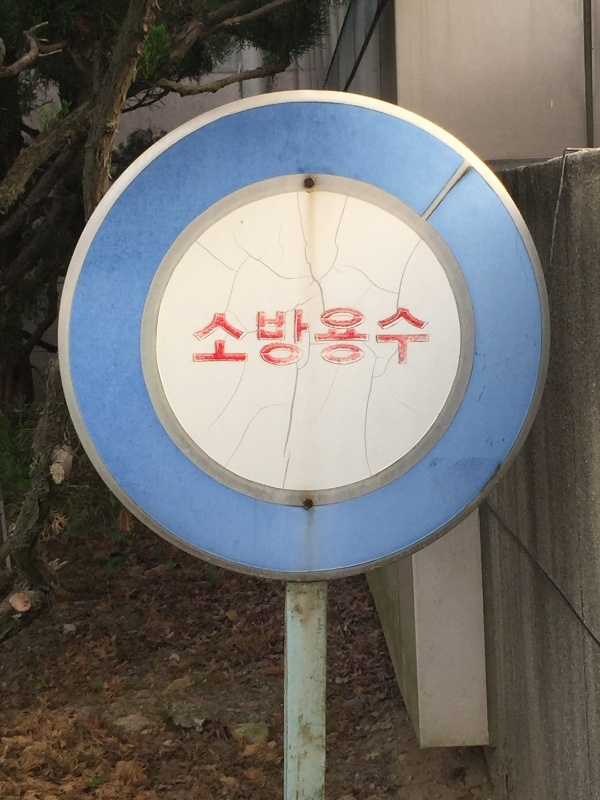text: (193, 305, 208, 374), (209, 305, 224, 374), (225, 305, 240, 374), (241, 305, 256, 374), (257, 305, 272, 374), (273, 305, 288, 374), (289, 305, 304, 374), (305, 305, 320, 374), (321, 305, 336, 374), (337, 305, 352, 374), (353, 305, 368, 374), (369, 305, 384, 374), (385, 305, 400, 374), (401, 305, 416, 374), (417, 305, 432, 374)
